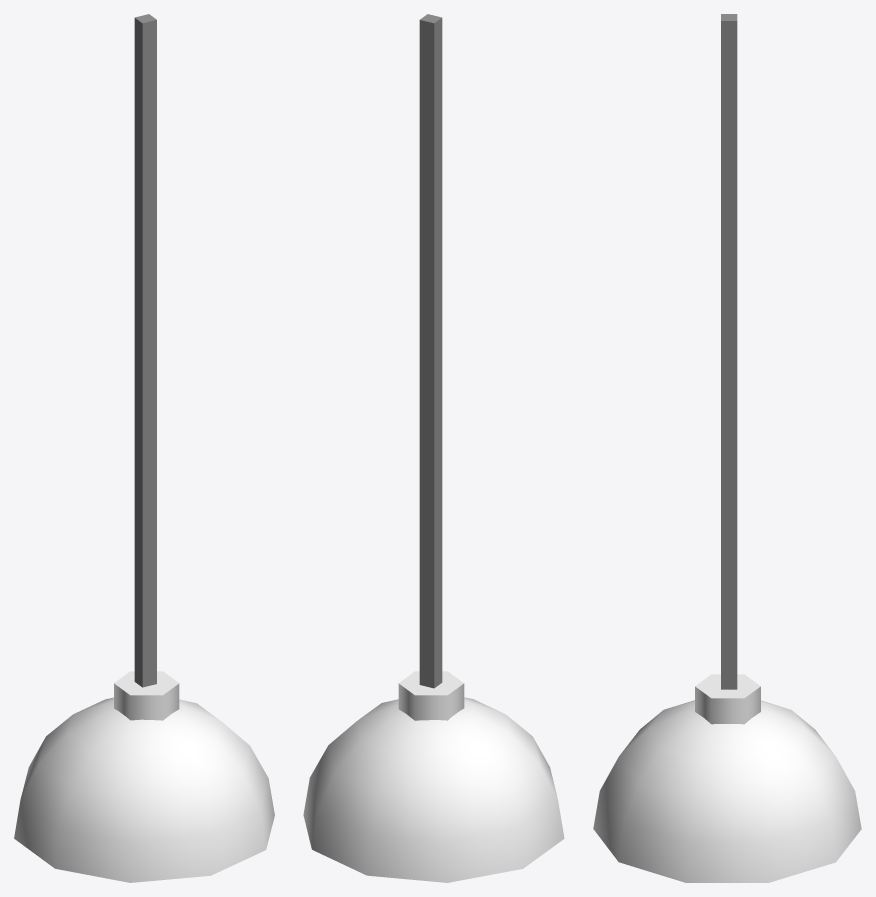
Rendered from Light.FBX.
3 views of the same model, side by side, from view 1: azimuth 30°, elevation 25°; view 2: azimuth 150°, elevation 25°; view 3: azimuth 270°, elevation 25° (orthographic).
Parts seen in each view (by area): view 1: test; view 2: test; view 3: test.
Part boxes in pixels (x1,y1,x2,y2): test: [14, 14, 274, 882]; test: [303, 14, 564, 882]; test: [593, 14, 861, 882].
Bounding box in the file's own units: 4.58 × 16.09 × 4.82.
2 materials, 1 textured.
